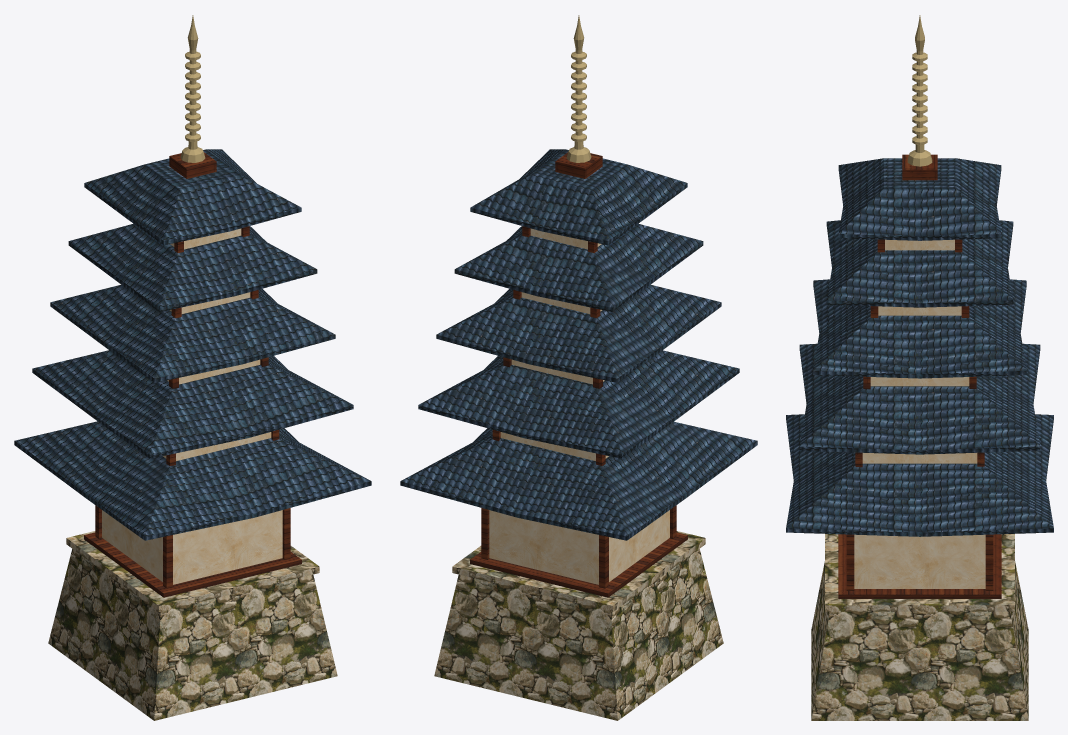
The model's file is edo_distant_pagoda.glb.
The picture shows the model from 3 angles, left to right: view 1: azimuth 30°, elevation 25°; view 2: azimuth 150°, elevation 25°; view 3: azimuth 270°, elevation 25°; orthographic projection. The views are drawn at different scales.
Visible parts, largest first — view 1: pagoda_kawara, pagoda_podium, pagoda_plaster, pagoda_timber, pagoda_sorin; view 2: pagoda_kawara, pagoda_podium, pagoda_plaster, pagoda_timber, pagoda_sorin; view 3: pagoda_kawara, pagoda_podium, pagoda_plaster, pagoda_timber, pagoda_sorin.
Boxes of the visible parts, x1,y1,x2,y2 form: pagoda_kawara: [14, 149, 371, 540]; pagoda_podium: [48, 531, 337, 720]; pagoda_plaster: [102, 228, 282, 584]; pagoda_timber: [84, 152, 301, 597]; pagoda_sorin: [180, 15, 205, 162]; pagoda_kawara: [400, 149, 757, 540]; pagoda_podium: [434, 531, 723, 720]; pagoda_plaster: [489, 228, 669, 584]; pagoda_timber: [470, 152, 687, 597]; pagoda_sorin: [566, 15, 591, 162]; pagoda_kawara: [786, 158, 1053, 536]; pagoda_podium: [811, 534, 1028, 720]; pagoda_plaster: [854, 239, 985, 588]; pagoda_timber: [838, 154, 1001, 598]; pagoda_sorin: [907, 15, 932, 166].
Size of the model in its own units: 7.9 by 21.51 by 7.9.
Materials: 5 (4 with a texture image).
